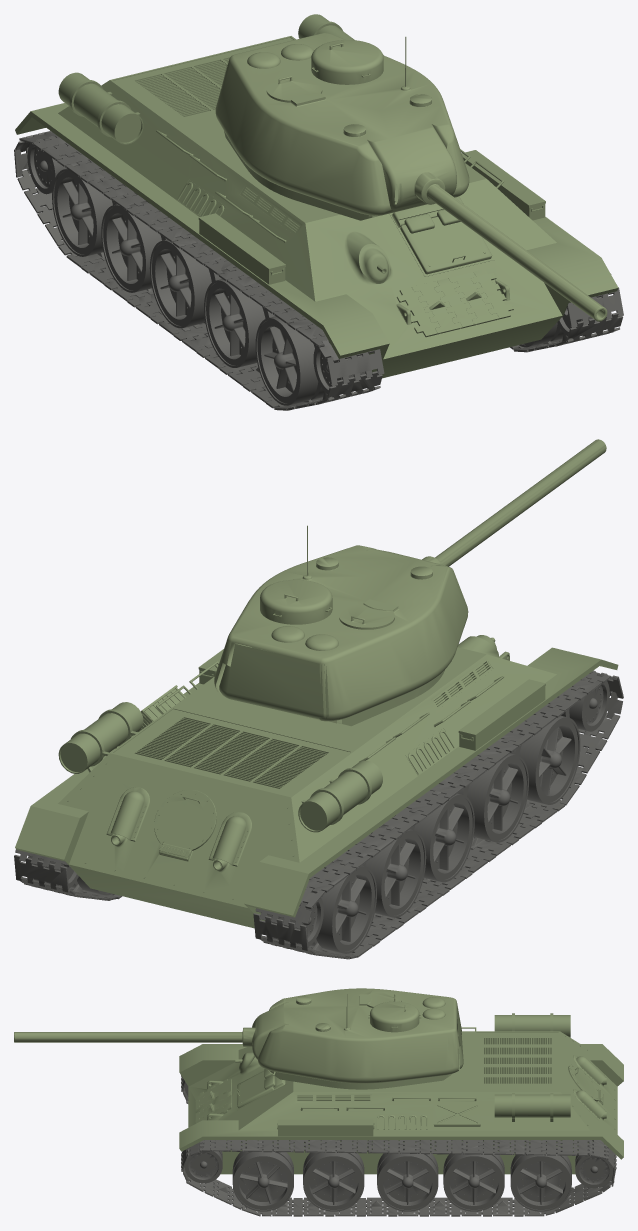
Rendered from t34_85_weihe.glb.
3 renders of one model, top to bottom at view 1: azimuth 30°, elevation 25°; view 2: azimuth 150°, elevation 25°; view 3: azimuth 270°, elevation 25°, orthographic. The views are drawn at different scales.
Parts seen in each view (by area): view 1: hull, gear, turret; view 2: hull, gear, turret; view 3: hull, gear, turret.
Boxes of the visible parts, <box> form: hull: <box>15,14,618,378</box>; gear: <box>14,130,623,410</box>; turret: <box>215,33,607,321</box>; hull: <box>15,635,618,928</box>; gear: <box>14,670,623,959</box>; turret: <box>214,439,606,723</box>; hull: <box>179,1008,623,1174</box>; gear: <box>181,1075,616,1216</box>; turret: <box>14,988,461,1083</box>.
Bounding box in the file's own units: 3.02 × 2.76 × 8.
